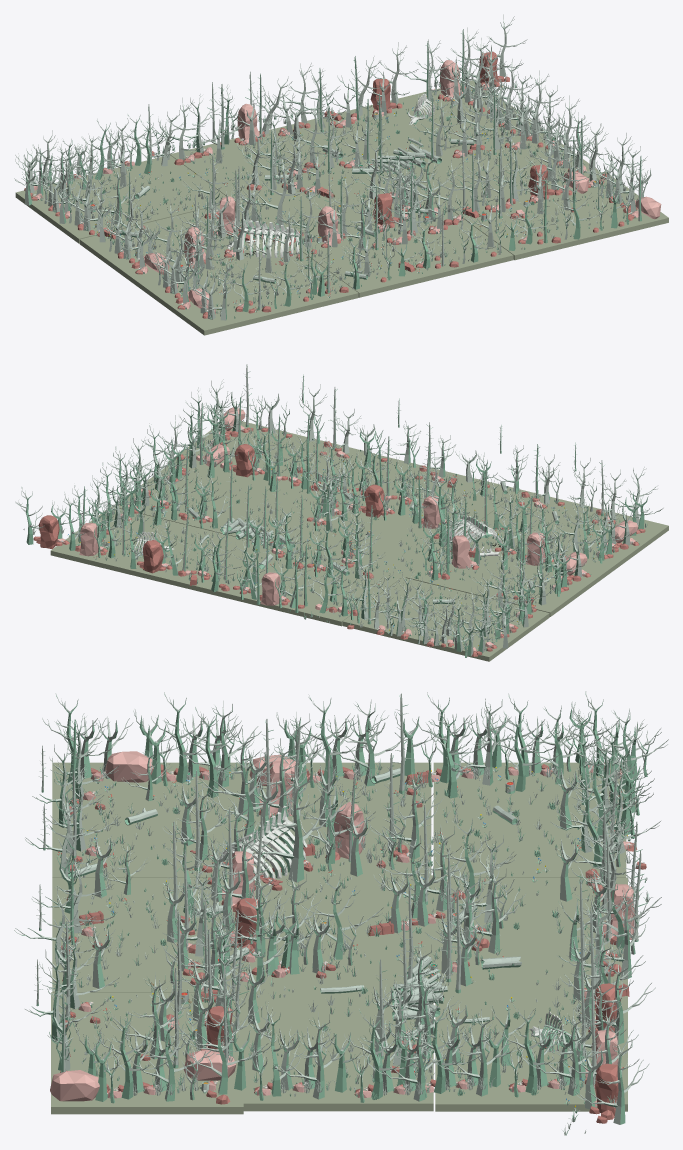
Rendered from Level_1_Otherworld.fbx.
3 renders of one model, top to bottom at view 1: azimuth 30°, elevation 25°; view 2: azimuth 150°, elevation 25°; view 3: azimuth 270°, elevation 25°, orthographic. The views are drawn at different scales.
Visible parts, largest first — view 1: BG_Cube.005, BG_Cube.004, BG_Cube.007, BG_Cube.010, BG_Cube.008, BG_Cube.011, BG_Cube.012, BG_Cube.009, BG_Cube.006, SM_Bones_06_BonesSkulls_M_0.001, Tree2_1.079, BigRock1.010 (+3 smaller); view 2: BG_Cube.007, BG_Cube.009, BG_Cube.012, BG_Cube.008, BG_Cube.011, BG_Cube.005, BG_Cube.006, BG_Cube.004, BG_Cube.010, SM_Bones_06_BonesSkulls_M_0.001, BigRock2.009, BigRock1.008 (+8 smaller); view 3: BG_Cube.011, BG_Cube.007, BG_Cube.009, BG_Cube.005, BG_Cube.004, BG_Cube.012, BG_Cube.008, BG_Cube.010, BG_Cube.006, SM_Bones_06_BonesSkulls_M_0.001, Tree2_1.079, BigRock3.003 (+70 smaller).
Part boxes in pixels (x1,y1,x2,y2): BG_Cube.005: [141, 246, 358, 335]; BG_Cube.004: [298, 209, 513, 297]; BG_Cube.007: [15, 155, 226, 243]; BG_Cube.010: [455, 171, 668, 260]; BG_Cube.008: [170, 116, 386, 199]; BG_Cube.011: [386, 128, 599, 209]; BG_Cube.012: [330, 79, 531, 159]; BG_Cube.009: [240, 166, 446, 246]; BG_Cube.006: [79, 205, 290, 288]; SM_Bones_06_BonesSkulls_M_0.001: [241, 219, 299, 257]; Tree2_1.079: [240, 154, 313, 228]; BigRock1.010: [439, 60, 461, 96]; BG_Cube.007: [342, 577, 549, 661]; BG_Cube.009: [259, 499, 442, 577]; BG_Cube.012: [50, 506, 253, 590]; BG_Cube.008: [195, 543, 401, 626]; BG_Cube.011: [112, 463, 315, 541]; BG_Cube.005: [476, 490, 668, 572]; BG_Cube.006: [406, 535, 610, 616]; BG_Cube.004: [318, 454, 521, 531]; BG_Cube.010: [167, 421, 374, 496]; SM_Bones_06_BonesSkulls_M_0.001: [449, 515, 502, 550]; BigRock2.009: [38, 515, 59, 549]; BigRock1.008: [260, 572, 281, 605]; BG_Cube.011: [241, 989, 433, 1111]; BG_Cube.007: [433, 762, 626, 877]; BG_Cube.009: [244, 875, 436, 989]; BG_Cube.005: [52, 762, 244, 877]; BG_Cube.004: [52, 877, 243, 992]; BG_Cube.012: [435, 990, 627, 1111]; BG_Cube.008: [435, 877, 627, 991]; BG_Cube.010: [51, 992, 243, 1114]; BG_Cube.006: [238, 762, 431, 877]; SM_Bones_06_BonesSkulls_M_0.001: [218, 805, 307, 884]; Tree2_1.079: [238, 767, 337, 882]; BigRock3.003: [50, 1070, 99, 1101].
Size of the model in its own units: 12215 by 2064 by 8889.
